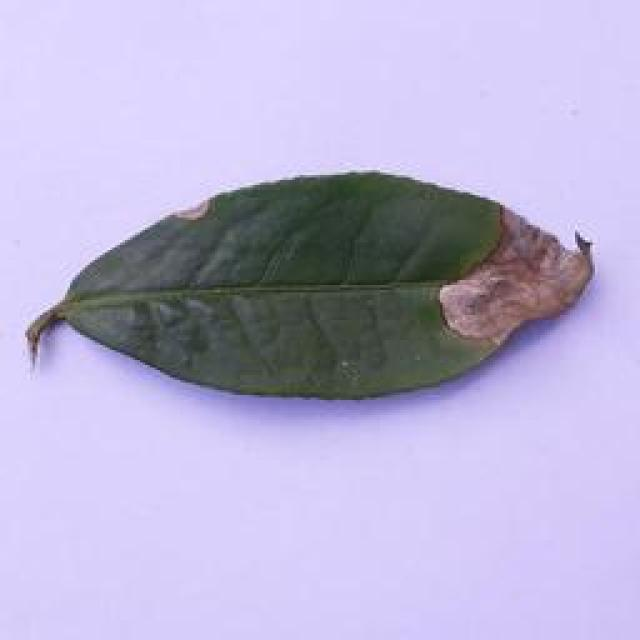Gray Blight: (19, 166, 598, 408)
